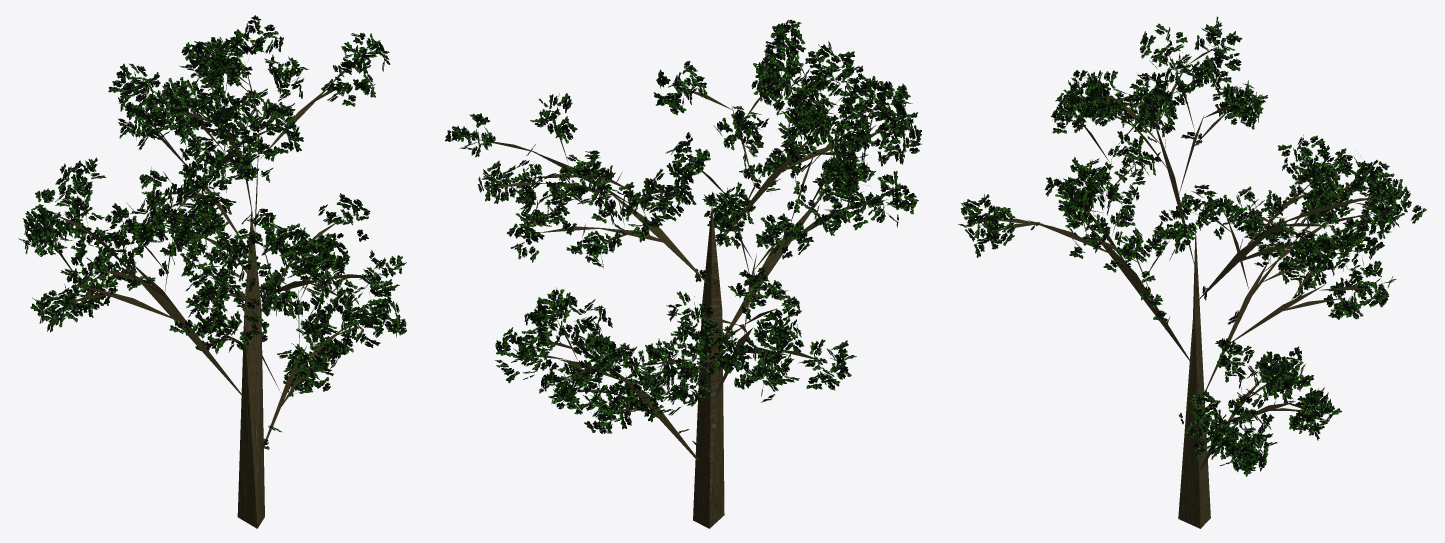
Rendered from evergreen_broad_v03_LOD2.fbx.
3 views of the same model, side by side, from view 1: azimuth 30°, elevation 25°; view 2: azimuth 150°, elevation 25°; view 3: azimuth 270°, elevation 25° (orthographic). The views are drawn at different scales.
Visible parts, largest first — view 1: evergreen_broad_v03_LOD2; view 2: evergreen_broad_v03_LOD2; view 3: evergreen_broad_v03_LOD2.
Part boxes in pixels (box(x1,y1,x2,y2)): evergreen_broad_v03_LOD2: box(18, 15, 406, 528); evergreen_broad_v03_LOD2: box(445, 19, 921, 528); evergreen_broad_v03_LOD2: box(958, 16, 1426, 528).
Size of the model in its own units: 2224 by 2523 by 2660.
Materials: 2 (2 with a texture image).
